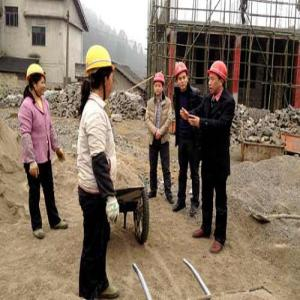red: (207, 58, 228, 96), (174, 60, 190, 91), (153, 72, 166, 100)
yellow: (85, 45, 116, 104), (26, 62, 47, 104)
